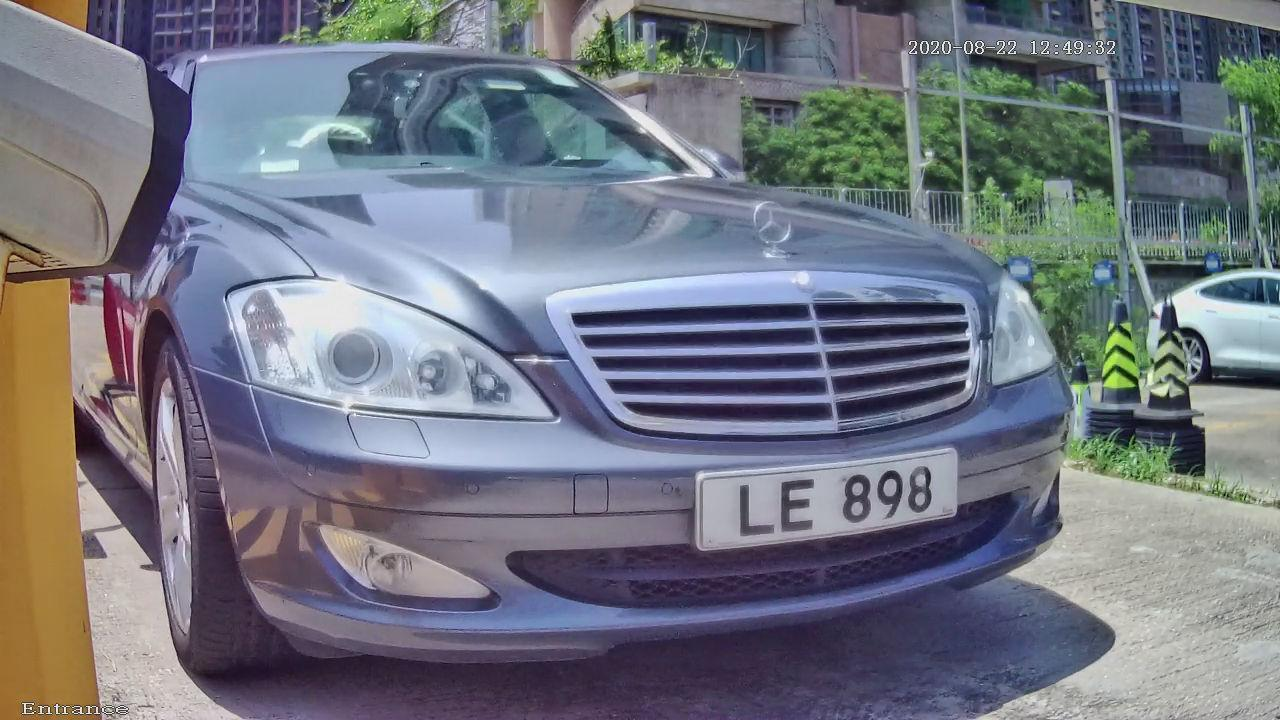Car: (23, 4, 1161, 714)
License Plate: (649, 438, 1001, 572)
